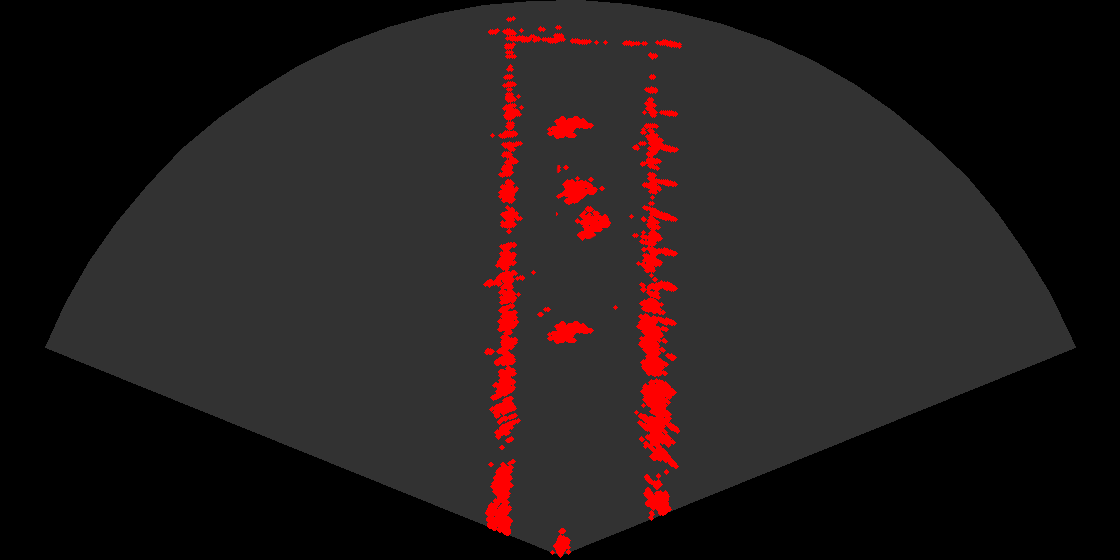AUV: (541, 114, 597, 146), (541, 319, 597, 351)
cage: (556, 165, 619, 249)
